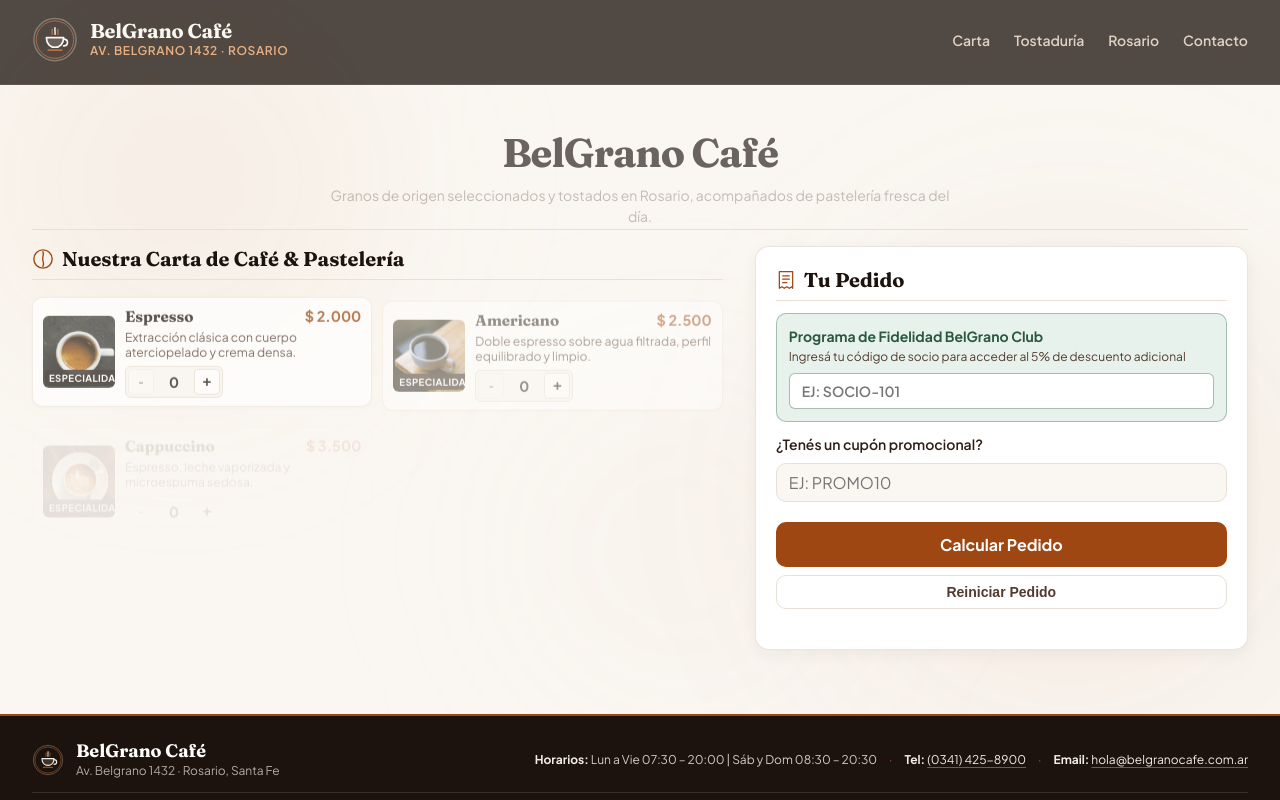
it: Integration Tests: Flujos de Interfaz y Negocio (React Testing Library) › alerta cuando se ingresa un cupón válido pero el subtotal es menor a $10.000
// 1 Espresso ($2.000)
Click the button named "Aumentar cantidad de Espresso".
click(207, 382)  # box [194,369,220,395]
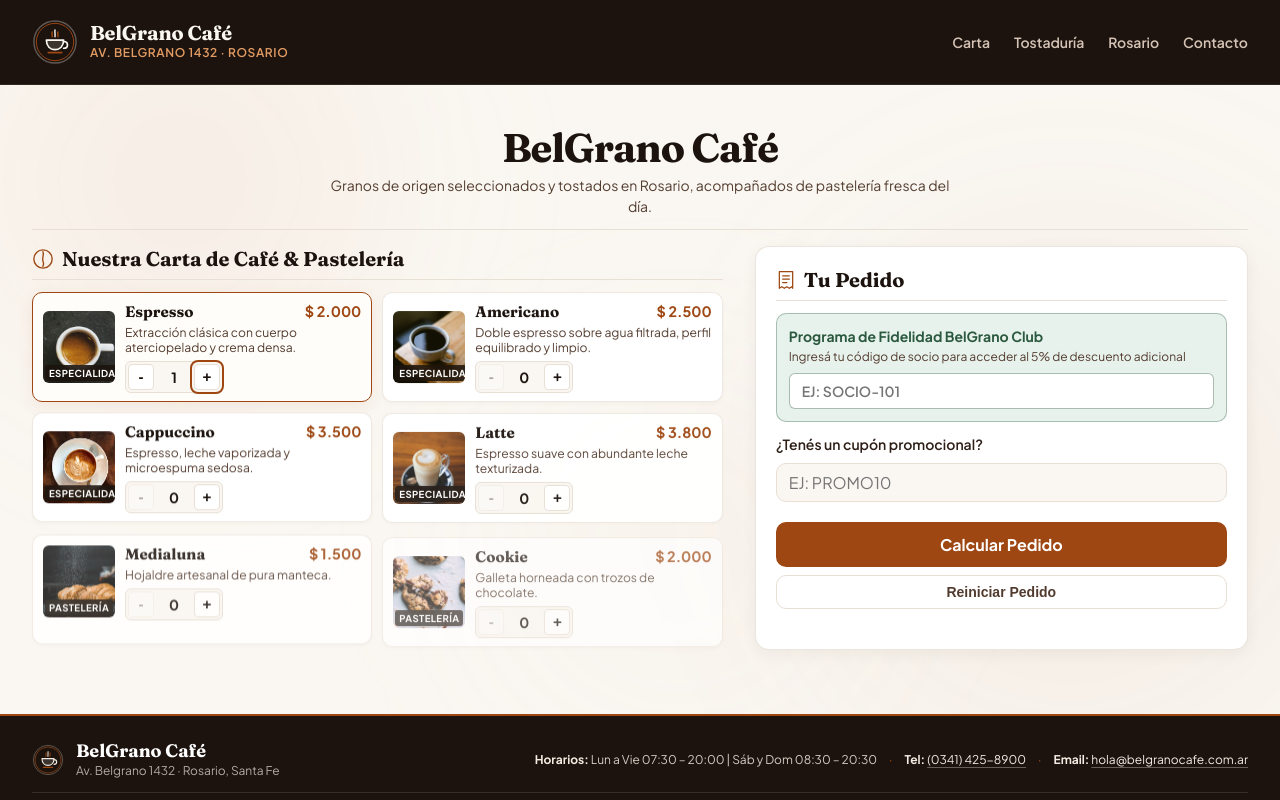
Type "BELGRANOCAFE10" into the field labelled "¿Tenés un cupón promocional?".
click(1001, 483); type("BELGRANOCAFE10")  # box [776,463,1227,502]
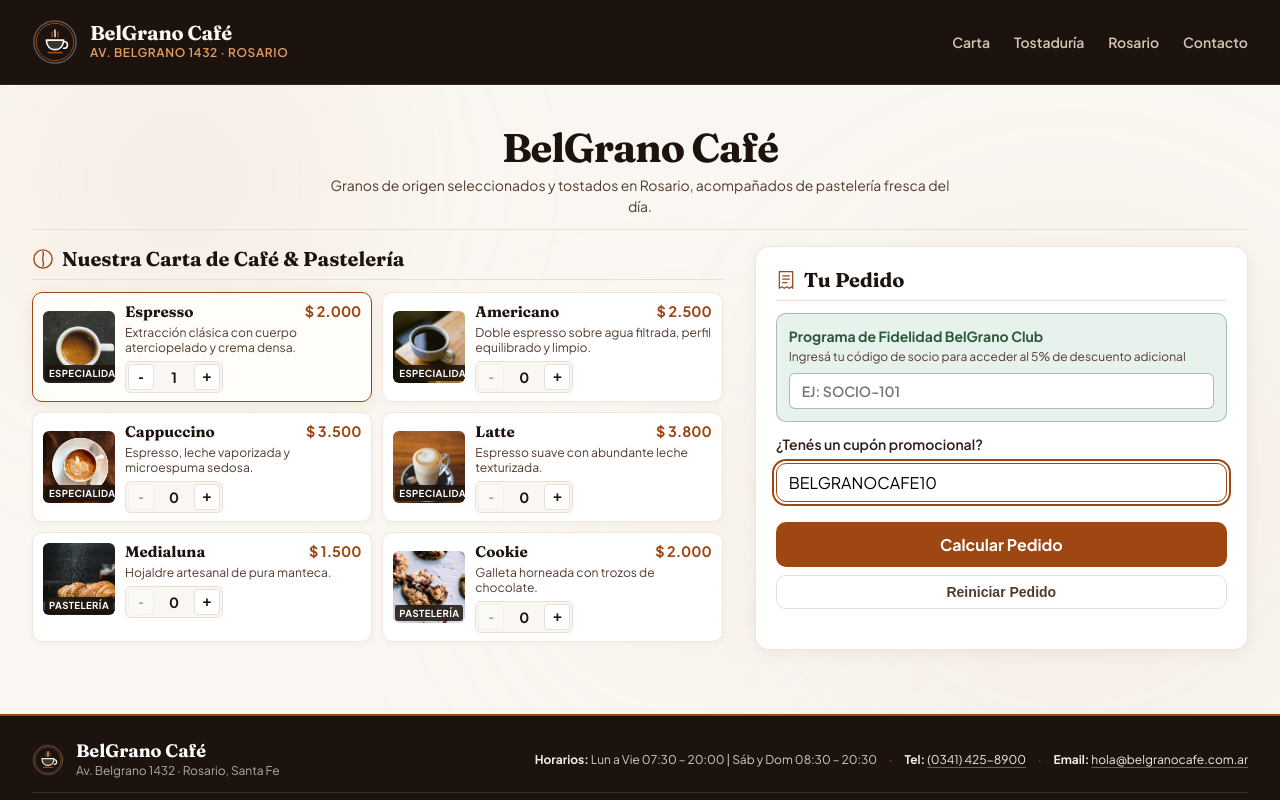
Click the button "Calcular Pedido".
click(1001, 545)  # box [776,522,1227,567]
(page scrolled)
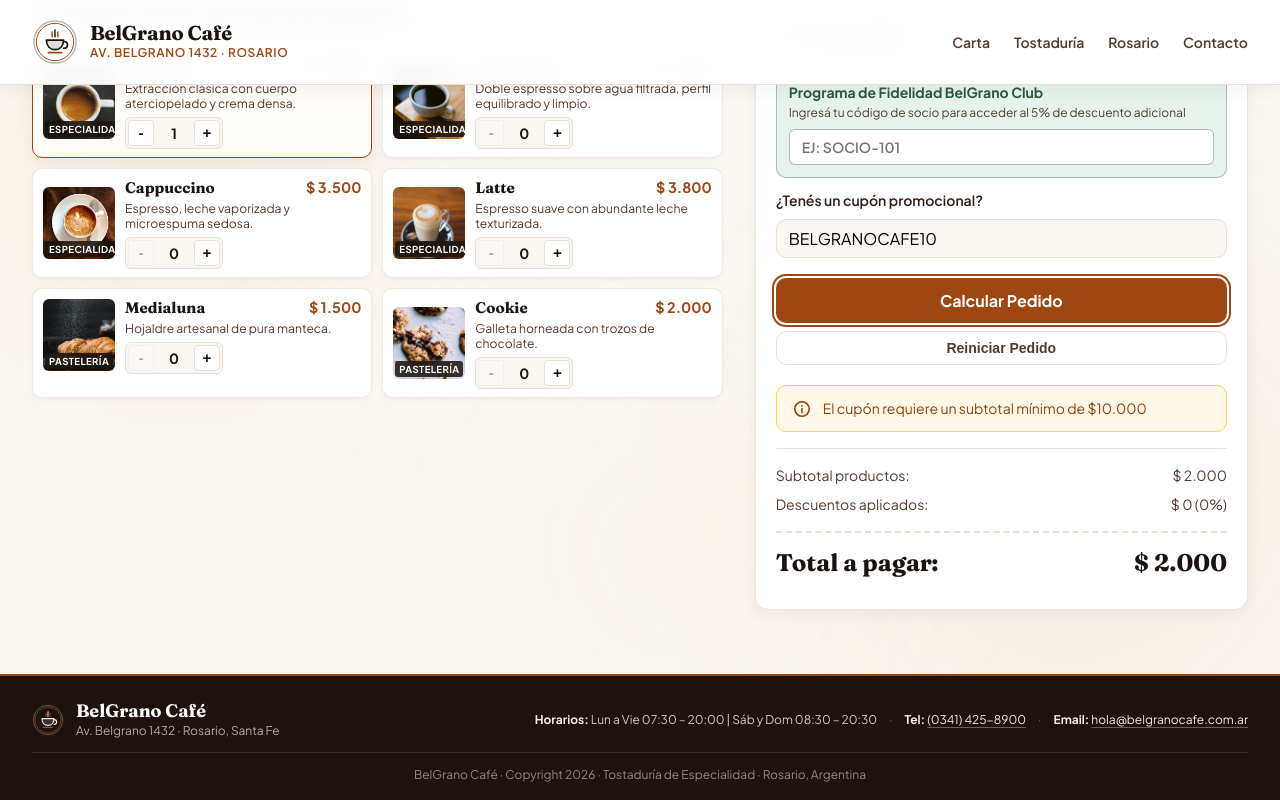
Check: the message reads "El cupón requiere un subtotal mínimo de $10.000", box [823,399,1147,417]
Check: the text with test id "receipt-total" shows "2.000", box [1134,548,1227,577]
